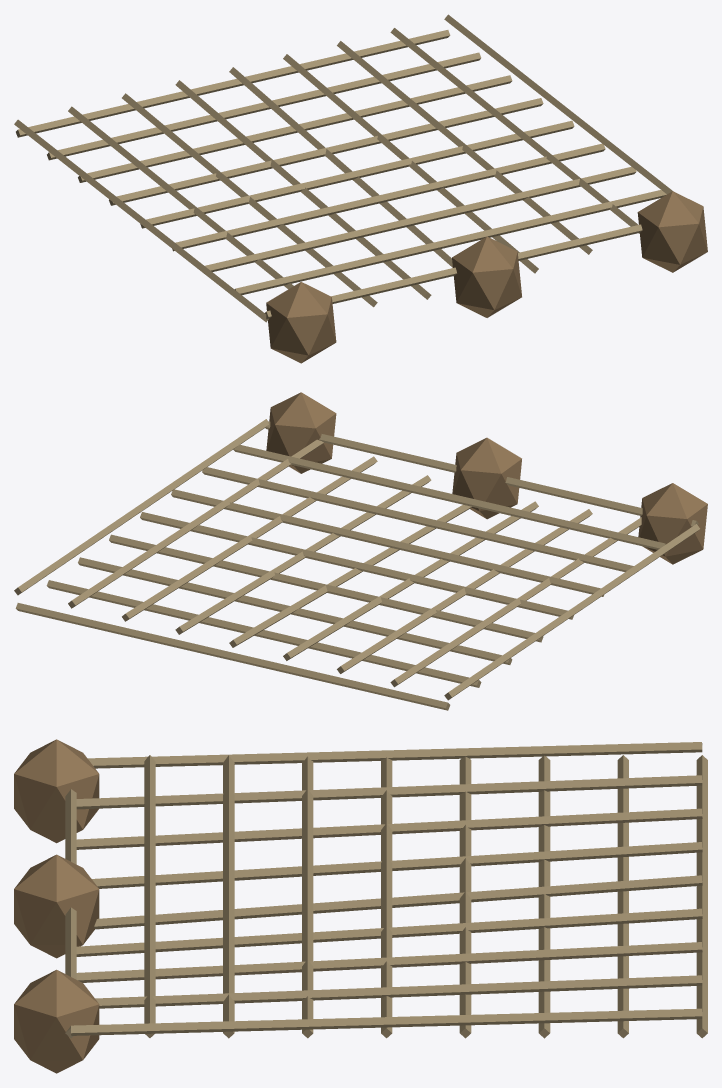
File: net_bundle.glb
3 views of the same model, one above another, from view 1: azimuth 30°, elevation 25°; view 2: azimuth 150°, elevation 25°; view 3: azimuth 270°, elevation 25° (orthographic). The views are drawn at different scales.
Visible parts, largest first — view 1: net float.002, net float, net float.001, net cord.003, net cord.005, net cord.007, net cord.009, net cord.011, net cord.017, net cord.013, net cord.015, net cord.001 (+9 smaller); view 2: net cord.017, net float.001, net cord.003, net float, net cord.005, net cord.007, net float.002, net cord.009, net cord.011, net cord.013, net cord.015, net cord.001 (+9 smaller); view 3: net cord.016, net cord.012, net cord.002, net cord, net cord.014, net cord.004, net cord.010, net float.002, net float.001, net cord.006, net cord.008, net float (+9 smaller).
Part boxes in pixels (left/top/right/bottom): net float.002: left=637, top=191, right=707, bottom=272; net float: left=266, top=282, right=336, bottom=363; net float.001: left=452, top=236, right=521, bottom=317; net cord.003: left=234, top=189, right=666, bottom=294; net cord.005: left=205, top=166, right=636, bottom=271; net cord.007: left=172, top=143, right=605, bottom=251; net cord.009: left=140, top=120, right=574, bottom=228; net cord.011: left=109, top=98, right=543, bottom=205; net cord.017: left=16, top=30, right=450, bottom=137; net cord.013: left=78, top=75, right=512, bottom=182; net cord.015: left=47, top=52, right=481, bottom=160; net cord.001: left=265, top=224, right=642, bottom=319; net cord.017: left=15, top=603, right=450, bottom=710; net float.001: left=452, top=437, right=521, bottom=519; net cord.003: left=233, top=444, right=665, bottom=549; net float: left=638, top=483, right=707, bottom=564; net cord.005: left=202, top=467, right=633, bottom=571; net cord.007: left=171, top=489, right=603, bottom=596; net float.002: left=266, top=392, right=336, bottom=473; net cord.009: left=140, top=512, right=573, bottom=619; net cord.011: left=109, top=534, right=543, bottom=642; net cord.013: left=78, top=557, right=512, bottom=664; net cord.015: left=46, top=580, right=481, bottom=687; net cord.001: left=265, top=421, right=698, bottom=526; net cord.016: left=71, top=1008, right=702, bottom=1035; net cord.012: left=76, top=942, right=702, bottom=982; net cord.002: left=76, top=775, right=702, bottom=809; net cord: left=87, top=742, right=702, bottom=768; net cord.014: left=95, top=975, right=702, bottom=1008; net cord.004: left=76, top=808, right=702, bottom=849; net cord.010: left=76, top=908, right=702, bottom=956; net float.002: left=14, top=969, right=99, bottom=1073; net float.001: left=14, top=854, right=99, bottom=958; net cord.006: left=92, top=842, right=702, bottom=888; net cord.008: left=94, top=875, right=702, bottom=929; net float: left=14, top=739, right=99, bottom=843.
Bounding box in the file's own units: 0.448 × 0.08 × 0.4838.
